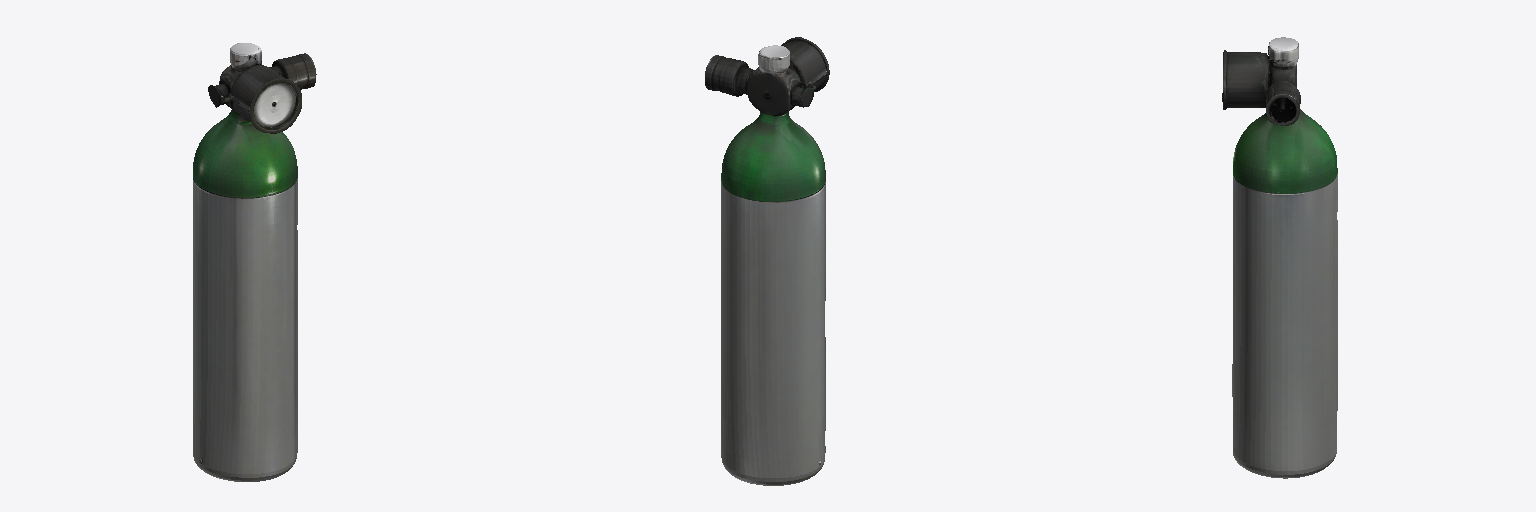
3 views of the same model, side by side, from view 1: azimuth 30°, elevation 25°; view 2: azimuth 150°, elevation 25°; view 3: azimuth 270°, elevation 25° (orthographic).
Visible parts, largest first — view 1: Oxygen_Tank_[number redacted]_texture; view 2: Oxygen_Tank_[number redacted]_texture; view 3: Oxygen_Tank_[number redacted]_texture.
Boxes of the visible parts, box(x1,y1,x2,y2) form: Oxygen_Tank_[number redacted]_texture: box(193, 43, 316, 481); Oxygen_Tank_[number redacted]_texture: box(705, 37, 829, 485); Oxygen_Tank_[number redacted]_texture: box(1222, 37, 1337, 478).
Bounding box in the file's own units: 0.5381 × 2 × 0.5009.
Materials: 1 (1 with a texture image).